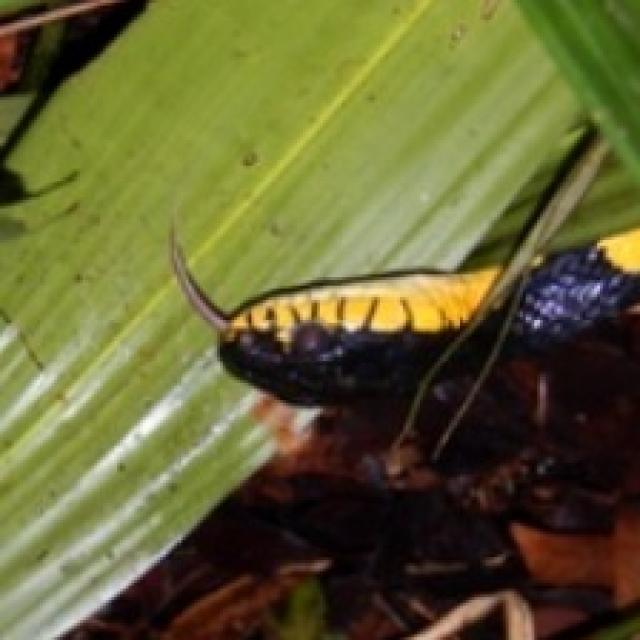mangrove cat snake: (172, 246, 501, 404), (505, 229, 640, 356), (441, 311, 501, 378)
